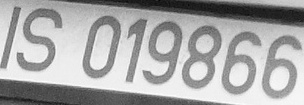0: (80, 11, 119, 82)
1: (118, 18, 147, 86)
6: (219, 25, 260, 98), (262, 33, 303, 101)
8: (183, 23, 220, 93)
9: (148, 18, 179, 89)
I: (1, 1, 18, 71)
S: (19, 6, 61, 71)
